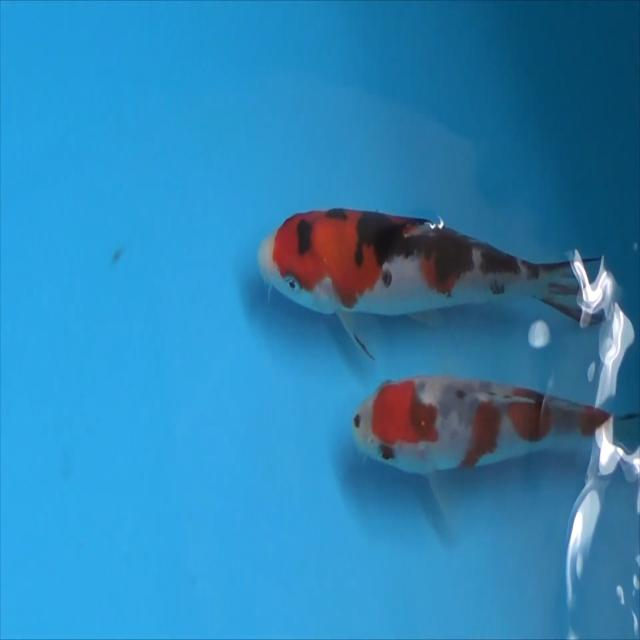Sanke: (352, 372, 639, 609), (256, 205, 620, 364), (352, 372, 638, 479)
